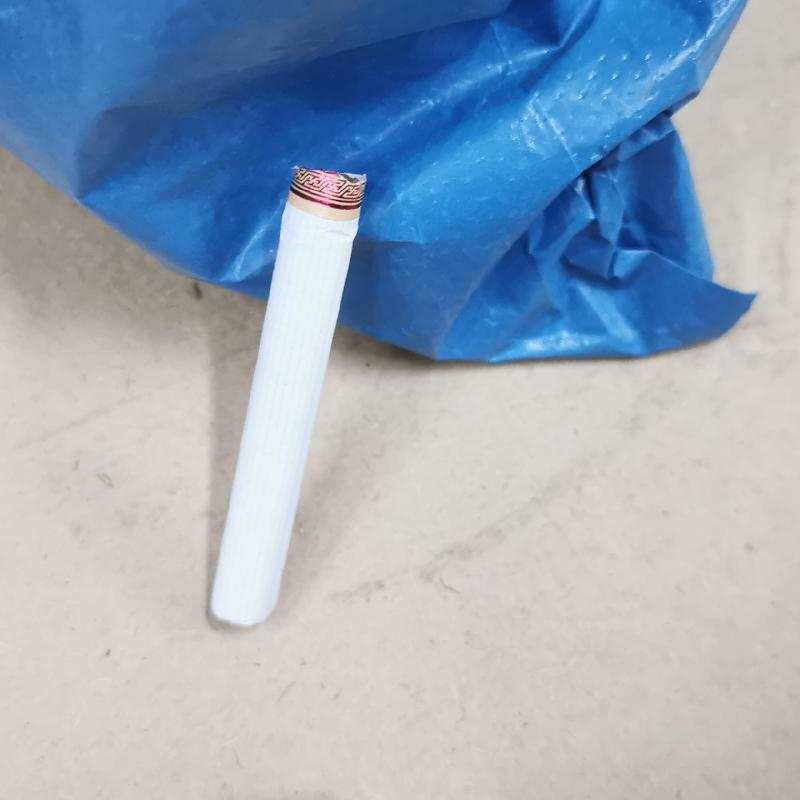cigarette: (206, 154, 367, 631)
